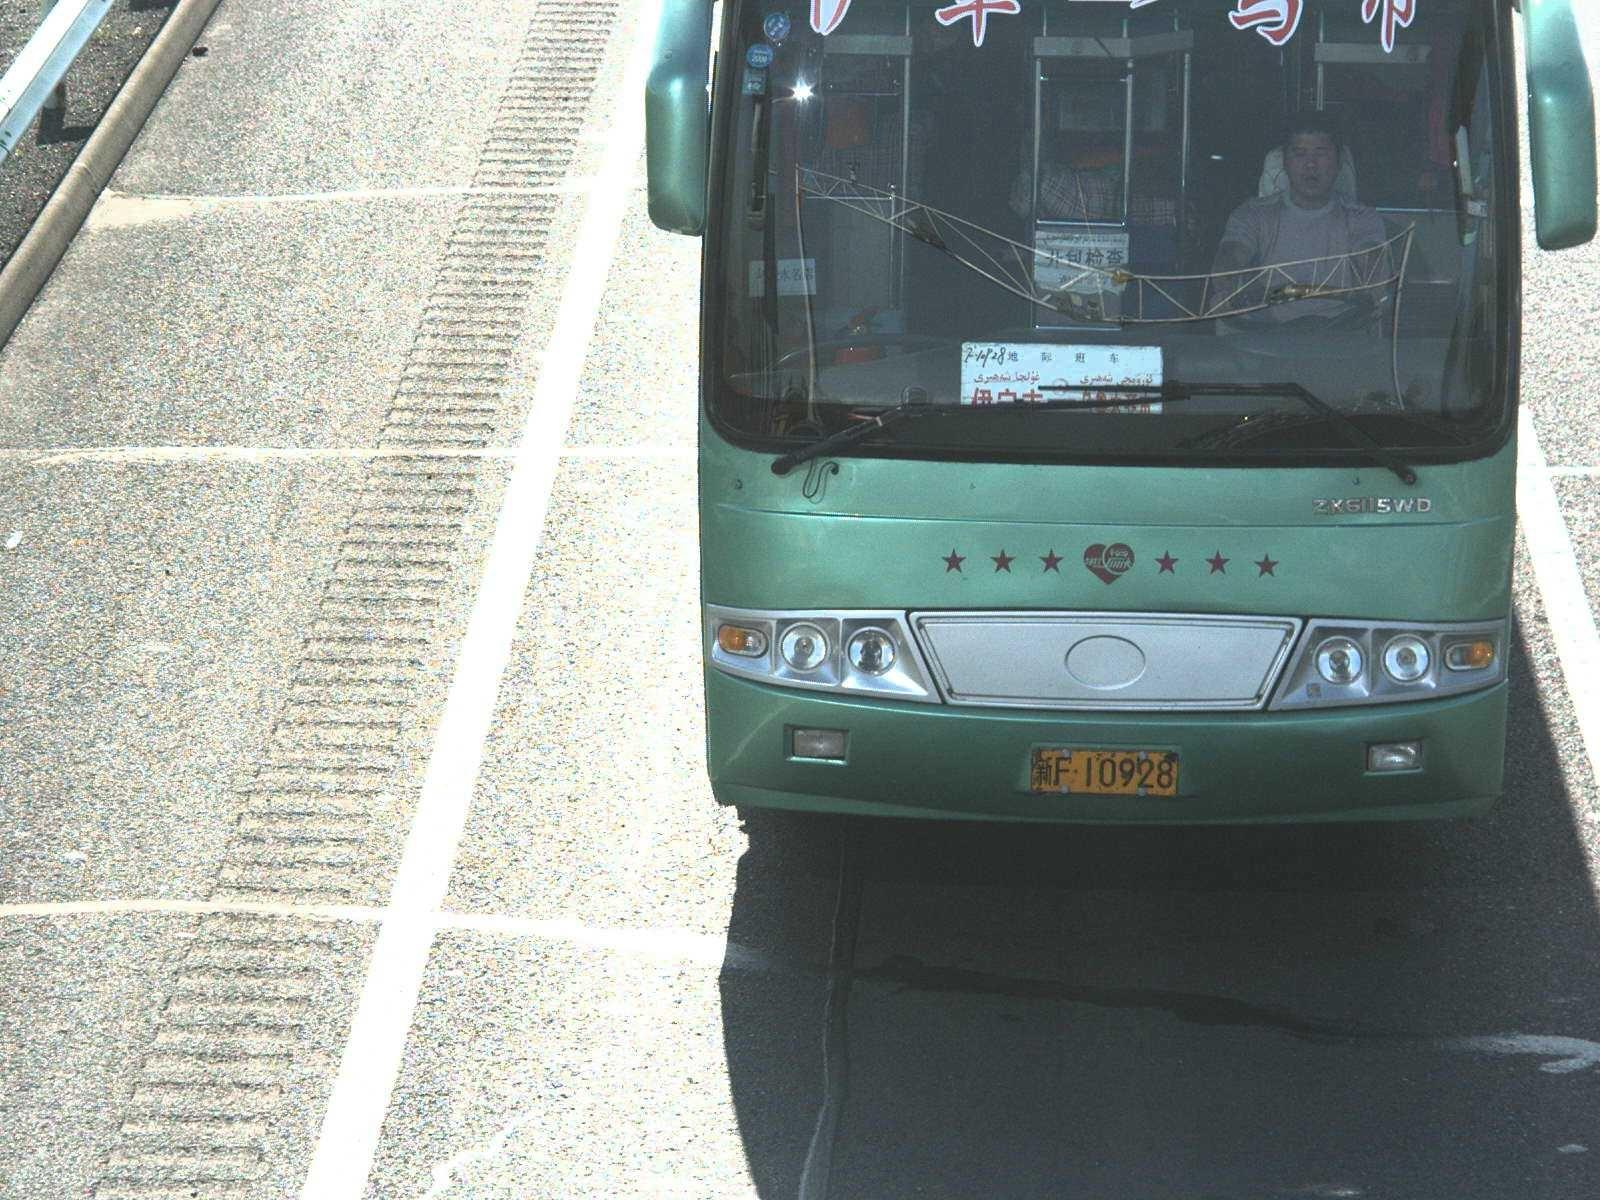bus: (636, 1, 1596, 858)
